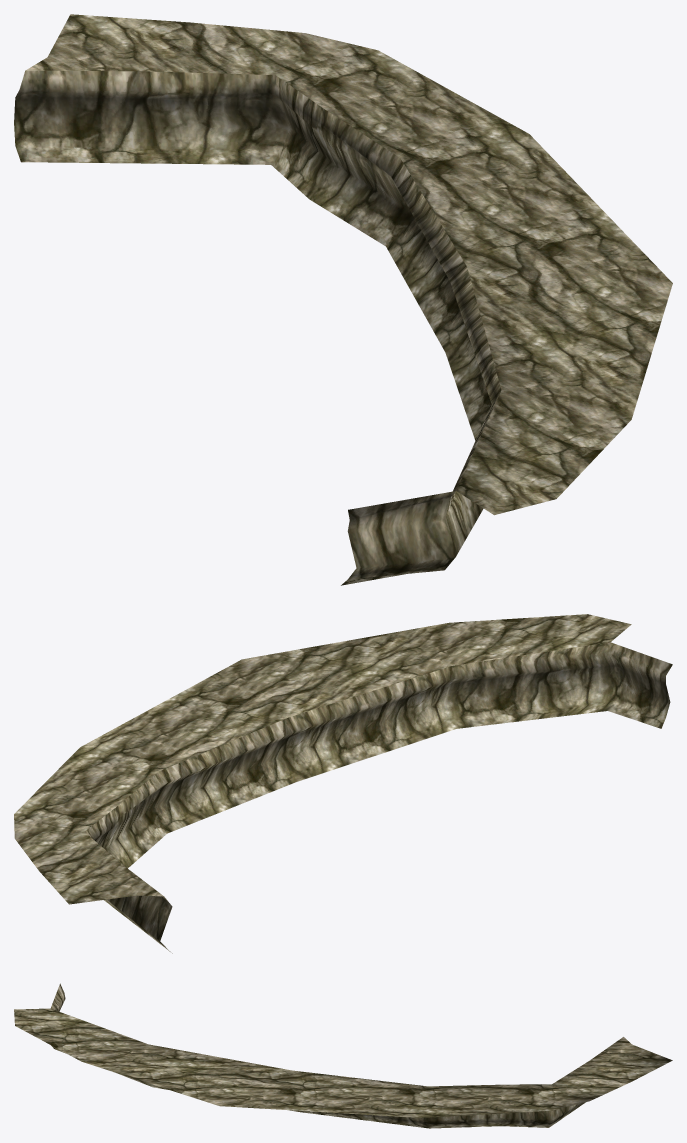
File: CB_NEWPLAYSURFACE_CB_PLAYSURFACE81.fbx
3 renders of one model, top to bottom at view 1: azimuth 30°, elevation 25°; view 2: azimuth 150°, elevation 25°; view 3: azimuth 270°, elevation 25°, orthographic. The views are drawn at different scales.
Visible parts, largest first — view 1: CB_NEWPLAYSURFACE_CB_PLAYSURFACE81; view 2: CB_NEWPLAYSURFACE_CB_PLAYSURFACE81; view 3: CB_NEWPLAYSURFACE_CB_PLAYSURFACE81.
Boxes of the visible parts, x1,y1,x2,y2 form: CB_NEWPLAYSURFACE_CB_PLAYSURFACE81: (14, 14, 672, 585); CB_NEWPLAYSURFACE_CB_PLAYSURFACE81: (14, 614, 672, 953); CB_NEWPLAYSURFACE_CB_PLAYSURFACE81: (14, 983, 672, 1128).
Size of the model in its own units: 222460 by 35578 by 458715.
Materials: 2 (2 with a texture image).
